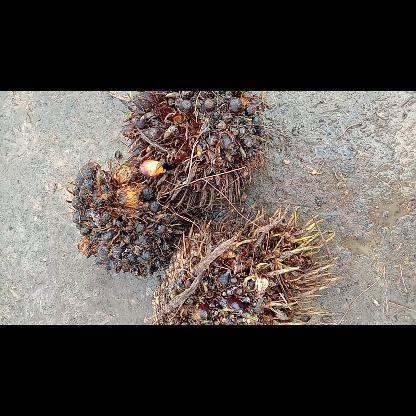TBS abnormal: (152, 200, 336, 324), (120, 90, 270, 208), (68, 160, 190, 276)
